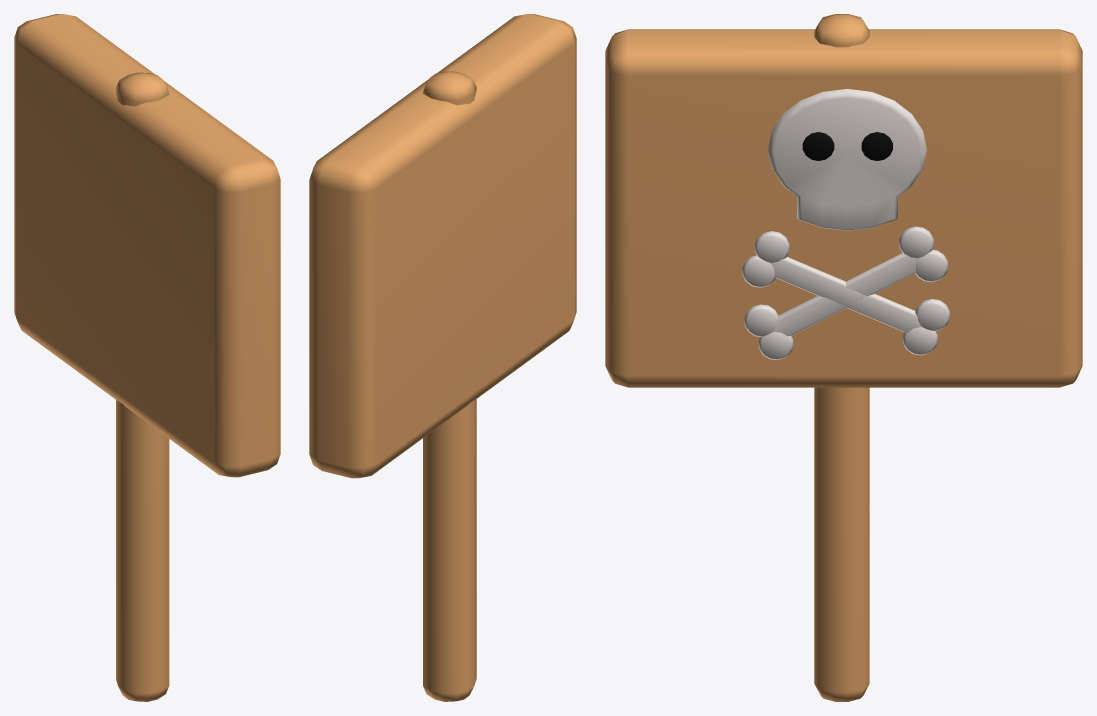
The model's file is SignDeath.fbx.
The picture shows the model from 3 angles, left to right: view 1: azimuth 30°, elevation 25°; view 2: azimuth 150°, elevation 25°; view 3: azimuth 270°, elevation 25°; orthographic projection. The views are drawn at different scales.
Parts seen in each view (by area): view 1: pCube2; view 2: pCube2; view 3: pCube2, pCylinder12.
Boxes of the visible parts, bbox=[...] form: pCube2: bbox=[14, 14, 280, 701]; pCube2: bbox=[309, 14, 576, 701]; pCube2: bbox=[605, 14, 1082, 701]; pCylinder12: bbox=[742, 89, 950, 359].
Bounding box in the file's own units: 0.6347 × 4.98 × 3.17.
